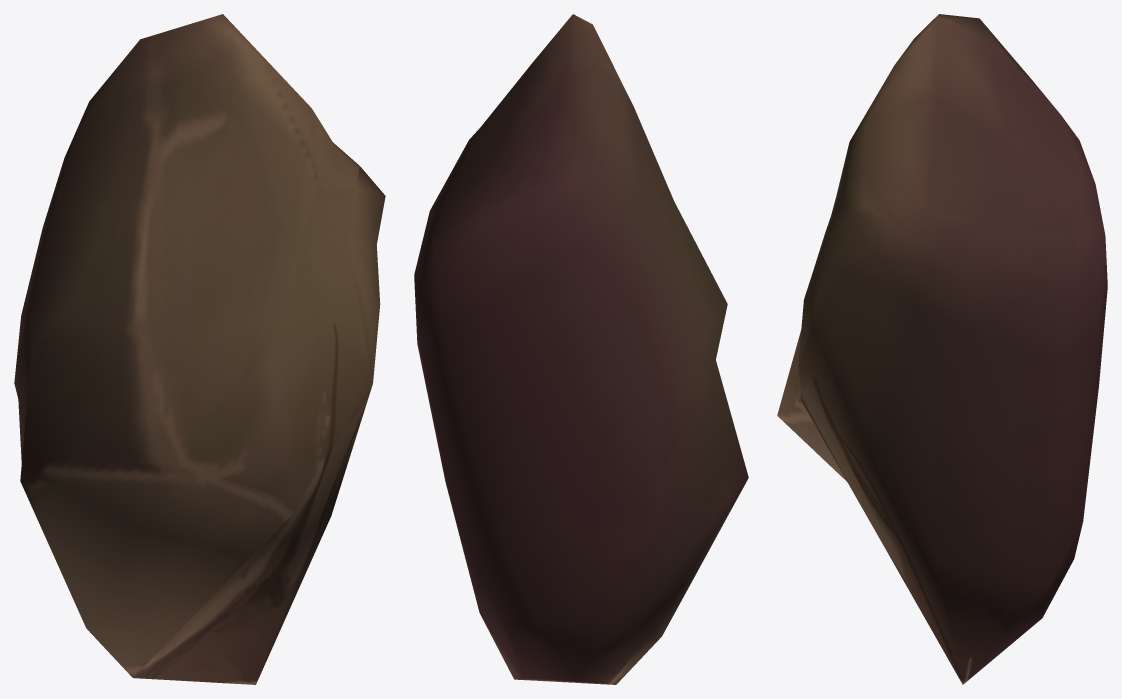
Rendered from Rock003.glb.
The picture shows the model from 3 angles, left to right: view 1: azimuth 30°, elevation 25°; view 2: azimuth 150°, elevation 25°; view 3: azimuth 270°, elevation 25°; orthographic projection. The views are drawn at different scales.
Visible parts, largest first — view 1: Cube.010; view 2: Cube.010; view 3: Cube.010.
Part boxes in pixels (x1,y1,x2,y2): Cube.010: (14, 14, 385, 684); Cube.010: (414, 14, 748, 684); Cube.010: (777, 14, 1107, 684).
Size of the model in its own units: 0.4813 by 0.9908 by 0.4611.
Materials: 1 (1 with a texture image).
